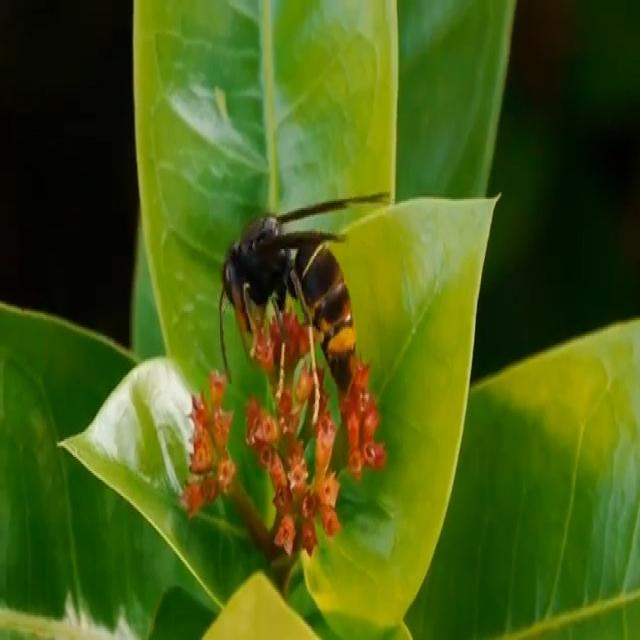Hornets: (216, 194, 388, 423)
